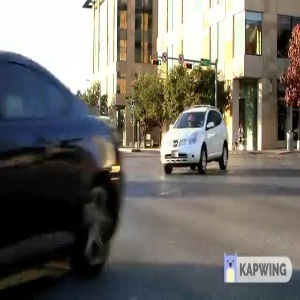suv: (154, 98, 240, 177)
